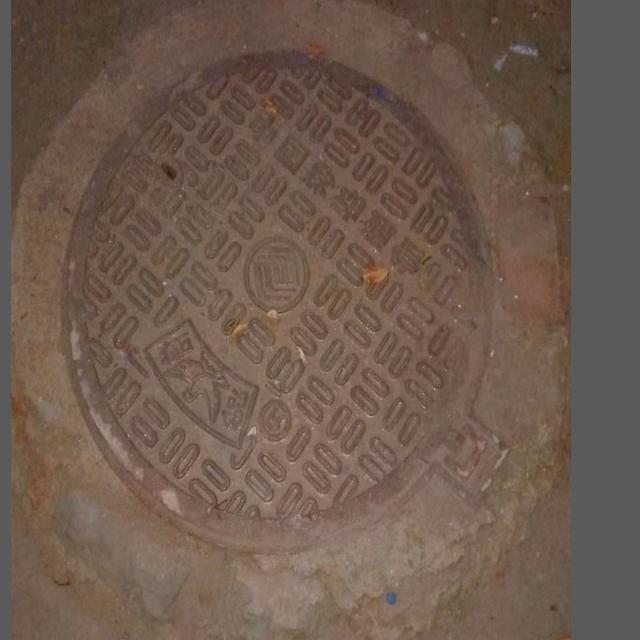good: (16, 0, 548, 634)
